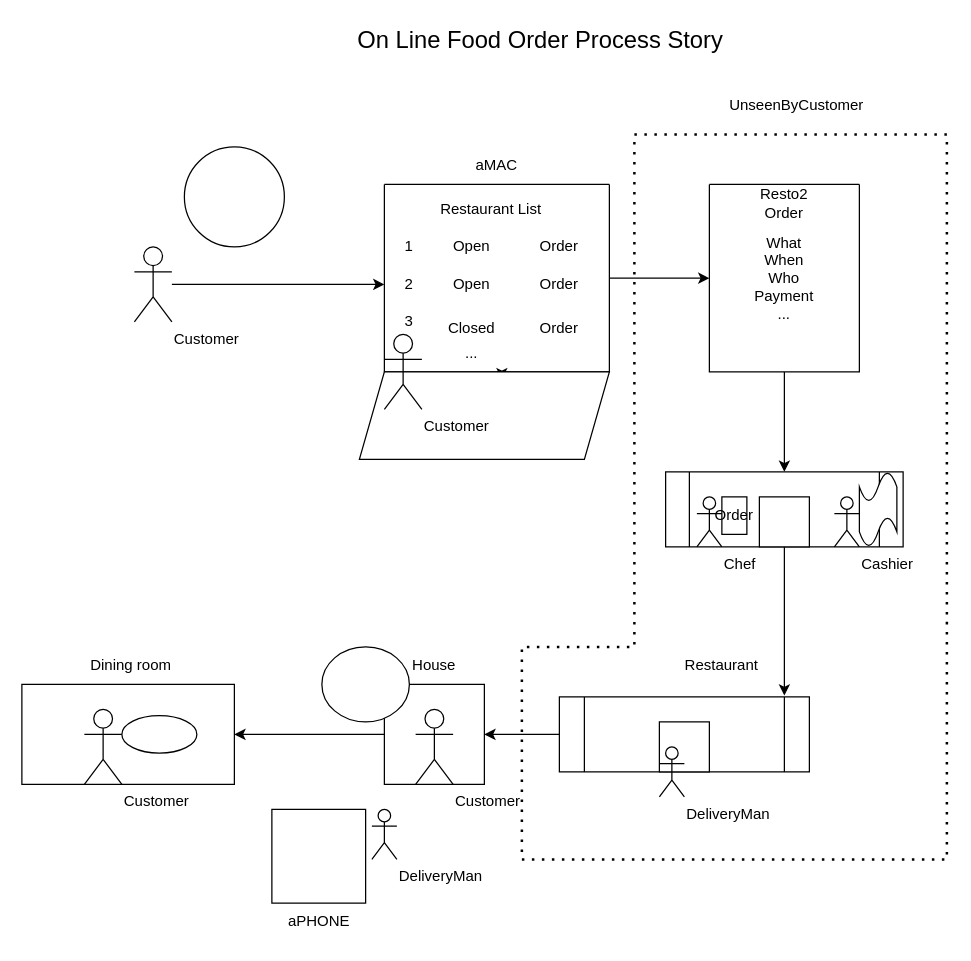
The diagram is 971 pixels wide and 961 high, and some of its shapes have lost their labels. The shapes that lost their labels are listed below. From the top down, each one's centre as x and y in pixels, then its label:
At (x=233, y=196): "Time to eat, what should I choose?".
At (x=877, y=509): "Bill confirmation".
At (x=365, y=684): "Thx for the food".
At (x=159, y=733): "food".
At (x=318, y=855): "Customer Sgnature Received confirmation".
